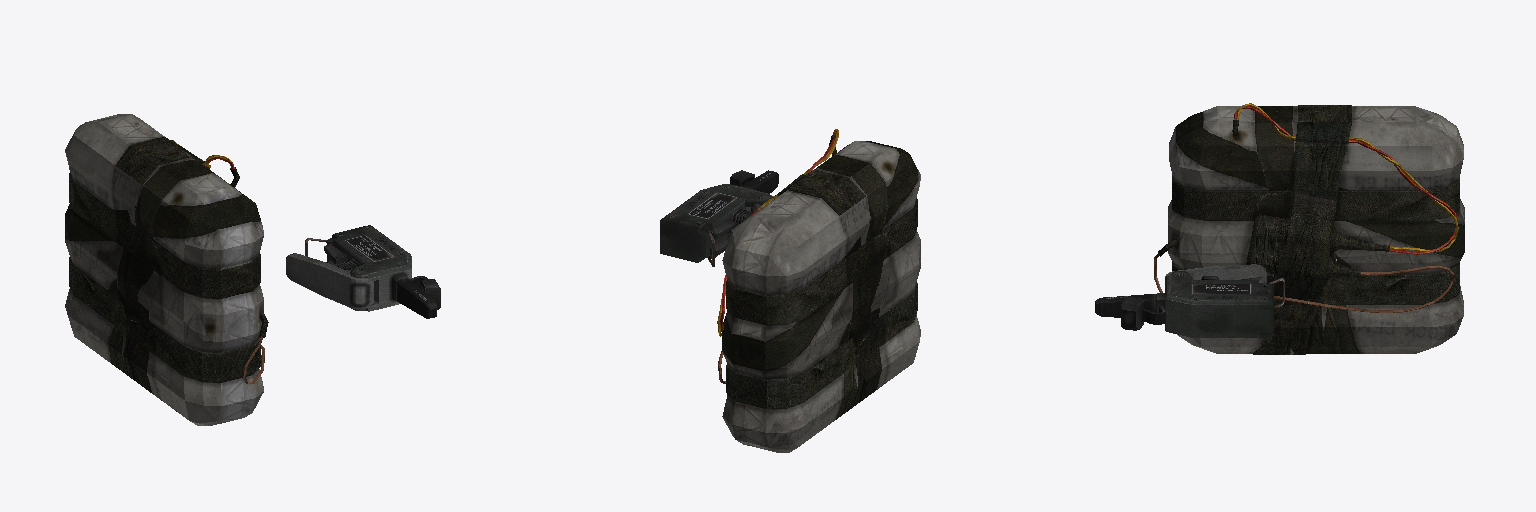
3 views of the same model, side by side, from view 1: azimuth 30°, elevation 25°; view 2: azimuth 150°, elevation 25°; view 3: azimuth 270°, elevation 25° (orthographic).
Parts seen in each view (by area): view 1: mtl_weapon_c4, mtl_weapon_claymore_detonator_2; view 2: mtl_weapon_c4, mtl_weapon_claymore_detonator_2; view 3: mtl_weapon_c4, mtl_weapon_claymore_detonator_2.
Boxes of the visible parts, box(x1,y1,x2,y2) form: mtl_weapon_c4: box(65, 114, 268, 425); mtl_weapon_claymore_detonator_2: box(286, 225, 440, 318); mtl_weapon_c4: box(717, 129, 920, 452); mtl_weapon_claymore_detonator_2: box(660, 170, 778, 266); mtl_weapon_c4: box(1154, 103, 1464, 354); mtl_weapon_claymore_detonator_2: box(1095, 264, 1284, 337).
Bounding box in the file's own units: 18.95 × 20.42 × 27.19.
2 materials, 2 textured.